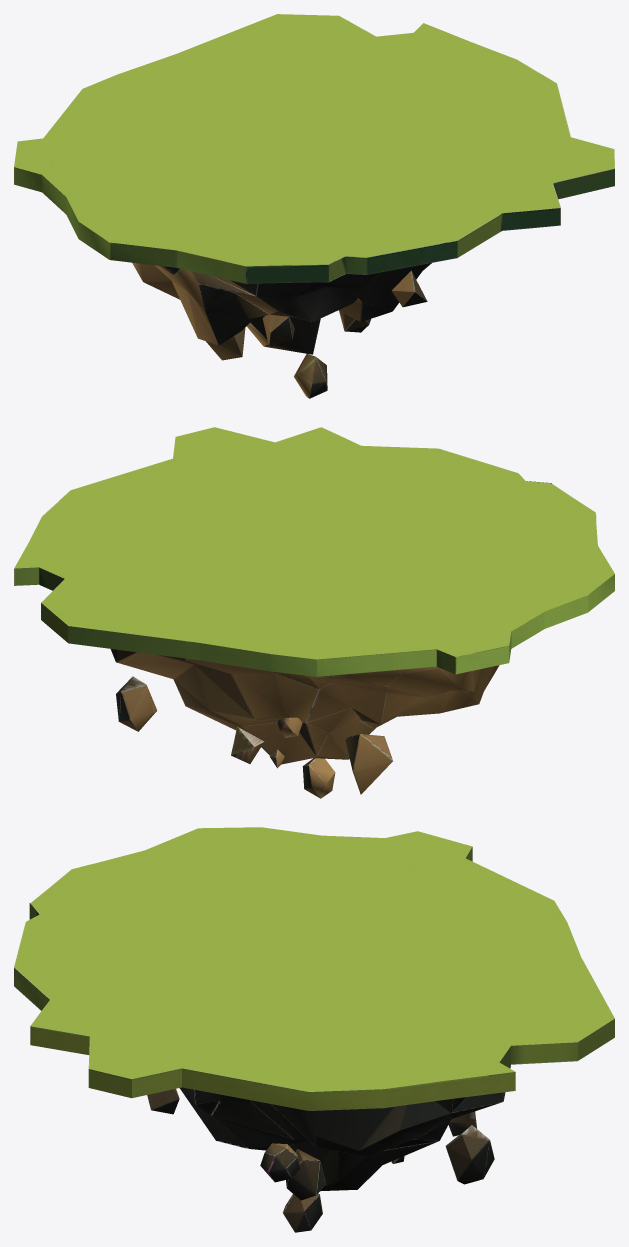
The model's file is island2.gltf.
3 renders of one model, top to bottom at view 1: azimuth 30°, elevation 25°; view 2: azimuth 150°, elevation 25°; view 3: azimuth 270°, elevation 25°, orthographic. The views are drawn at different scales.
Parts seen in each view (by area): view 1: Mesh_0.002; view 2: Mesh_0.002; view 3: Mesh_0.002.
Part boxes in pixels (box(x1,y1,x2,y2)): Mesh_0.002: box(14, 14, 614, 398); Mesh_0.002: box(14, 427, 614, 798); Mesh_0.002: box(14, 827, 614, 1232).
Size of the model in its own units: 15.83 by 7.58 by 15.18.
2 materials, 2 textured.
